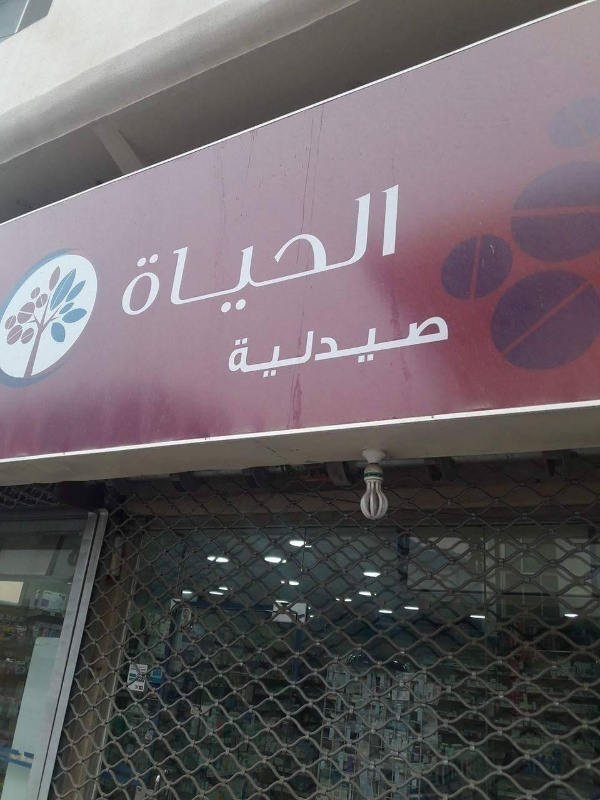text: (129, 174, 144, 334), (145, 174, 160, 334), (161, 174, 176, 334), (177, 174, 192, 334), (193, 174, 208, 334), (209, 174, 224, 334), (225, 174, 240, 334), (241, 174, 256, 334), (257, 174, 272, 334), (273, 174, 288, 334), (289, 174, 304, 334), (305, 174, 320, 334), (321, 174, 336, 334), (337, 174, 352, 334), (353, 174, 368, 334), (369, 174, 384, 334), (385, 174, 400, 334), (117, 174, 128, 334), (241, 306, 256, 384), (257, 306, 272, 384), (273, 306, 288, 384), (289, 306, 304, 384), (305, 306, 320, 384), (321, 306, 336, 384), (337, 306, 352, 384), (353, 306, 368, 384), (369, 306, 384, 384), (385, 306, 400, 384), (401, 306, 416, 384), (417, 306, 432, 384), (433, 306, 448, 384), (227, 306, 240, 384), (449, 306, 455, 384), (401, 174, 402, 334)
